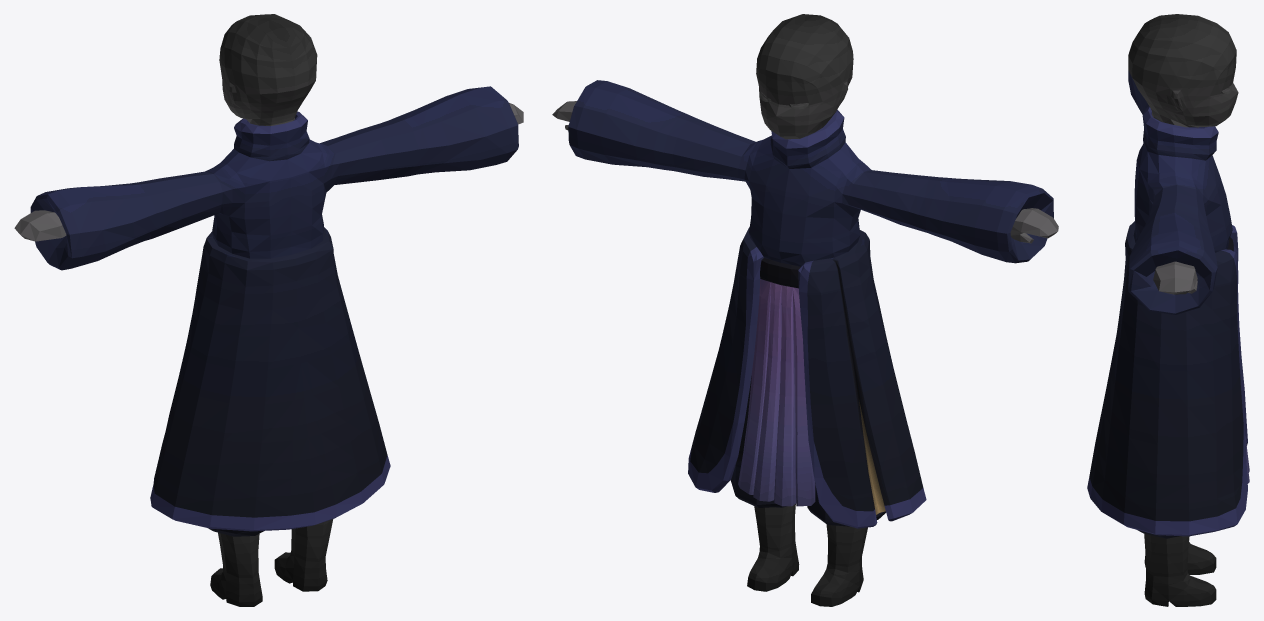
File: CharSkyKid_Body_AP29Pleated.glb
3 views of the same model, side by side, from view 1: azimuth 30°, elevation 25°; view 2: azimuth 150°, elevation 25°; view 3: azimuth 270°, elevation 25° (orthographic).
Parts seen in each view (by area): view 1: CharSkyKid_Body_AP29Pleated; view 2: CharSkyKid_Body_AP29Pleated; view 3: CharSkyKid_Body_AP29Pleated.
Boxes of the visible parts, x1,y1,x2,y2 form: CharSkyKid_Body_AP29Pleated: [14, 14, 523, 606]; CharSkyKid_Body_AP29Pleated: [552, 14, 1058, 606]; CharSkyKid_Body_AP29Pleated: [1087, 14, 1249, 606].
Bounding box in the file's own units: 13.87 × 14.92 × 3.89.
1 material, 1 textured.
